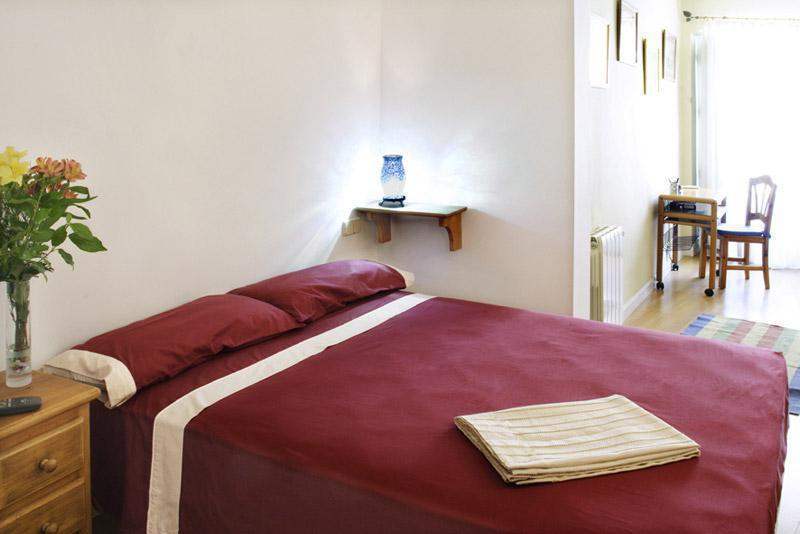Cama: (52, 263, 784, 531)
